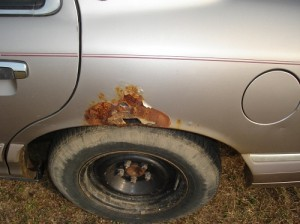rust: (84, 100, 170, 127)
